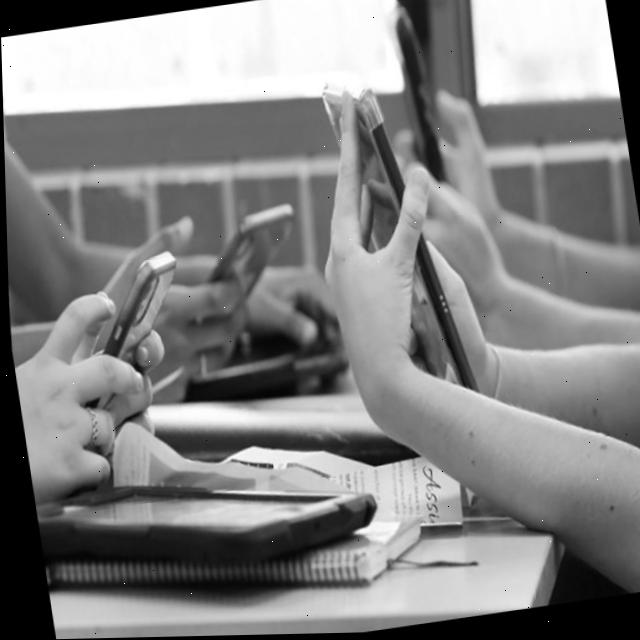phone: (292, 62, 505, 415), (28, 439, 383, 604), (68, 240, 196, 417), (175, 192, 308, 334), (374, 0, 464, 193)
